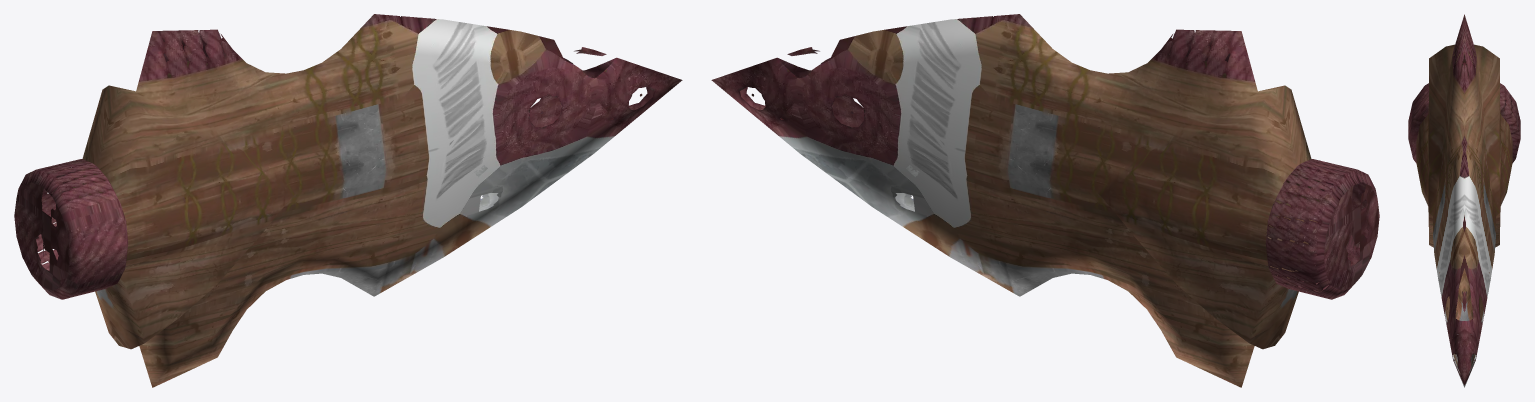
3 renders of one model, left to right at view 1: azimuth 30°, elevation 25°; view 2: azimuth 150°, elevation 25°; view 3: azimuth 270°, elevation 25°, orthographic. The views are drawn at different scales.
Visible parts, largest first — view 1: SM_Arrow_Stack_01_LOD0; view 2: SM_Arrow_Stack_01_LOD0; view 3: SM_Arrow_Stack_01_LOD0.
Part boxes in pixels (left/top/right/bottom): SM_Arrow_Stack_01_LOD0: left=14, top=14, right=682, bottom=387; SM_Arrow_Stack_01_LOD0: left=711, top=14, right=1379, bottom=387; SM_Arrow_Stack_01_LOD0: left=1408, top=14, right=1520, bottom=387.
Bounding box in the file's own units: 0.1201 × 0.0639 × 0.0218.
